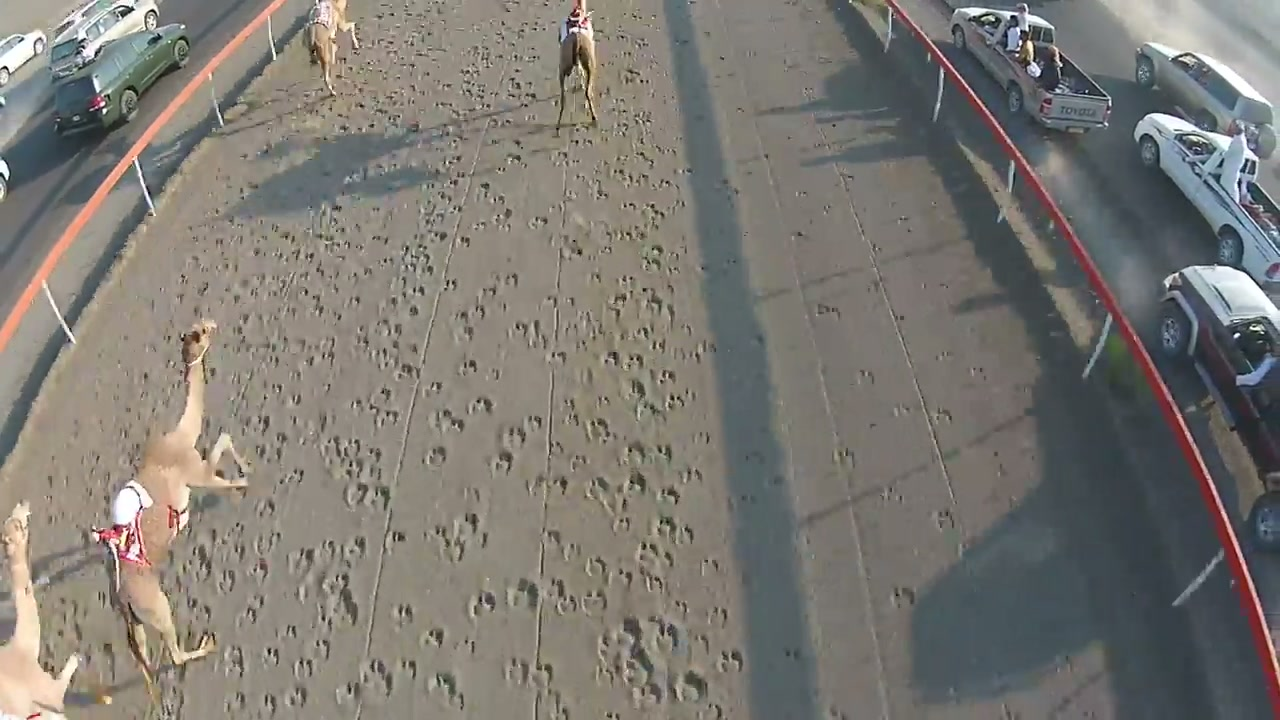animal_footprint: (366, 93, 664, 708), (180, 55, 380, 713)
